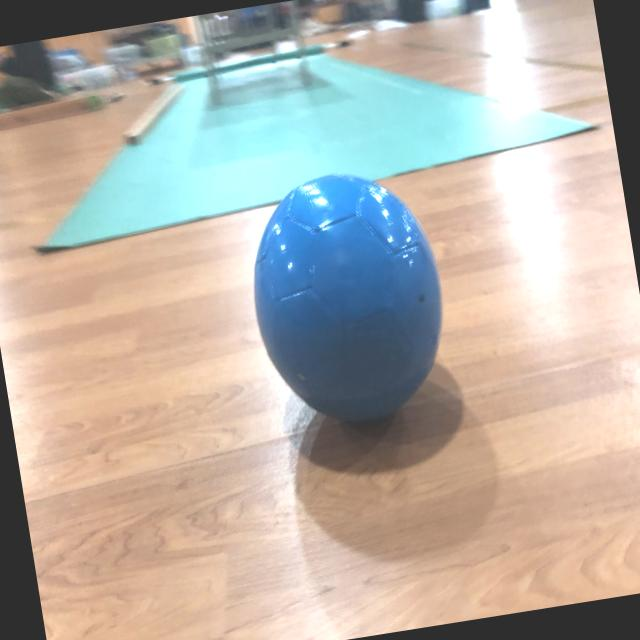blue_ball: (236, 159, 461, 434)
